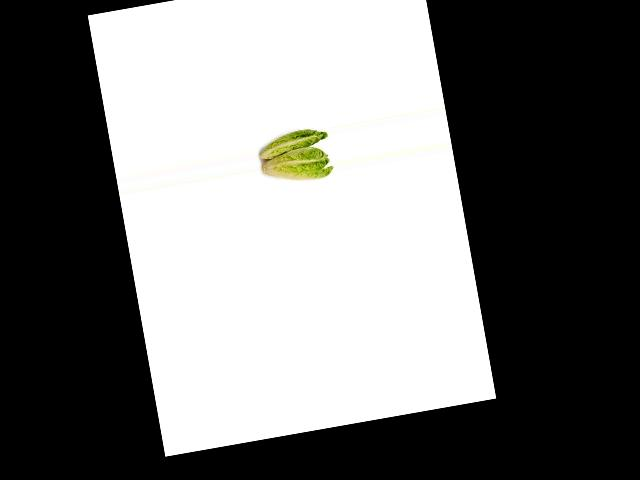lettuce: (250, 118, 330, 163)
